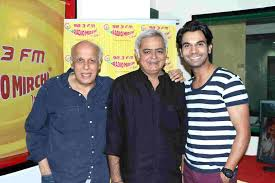Bad: (25, 29, 179, 183), (113, 21, 251, 183)
